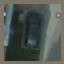car: (24, 14, 40, 48)
